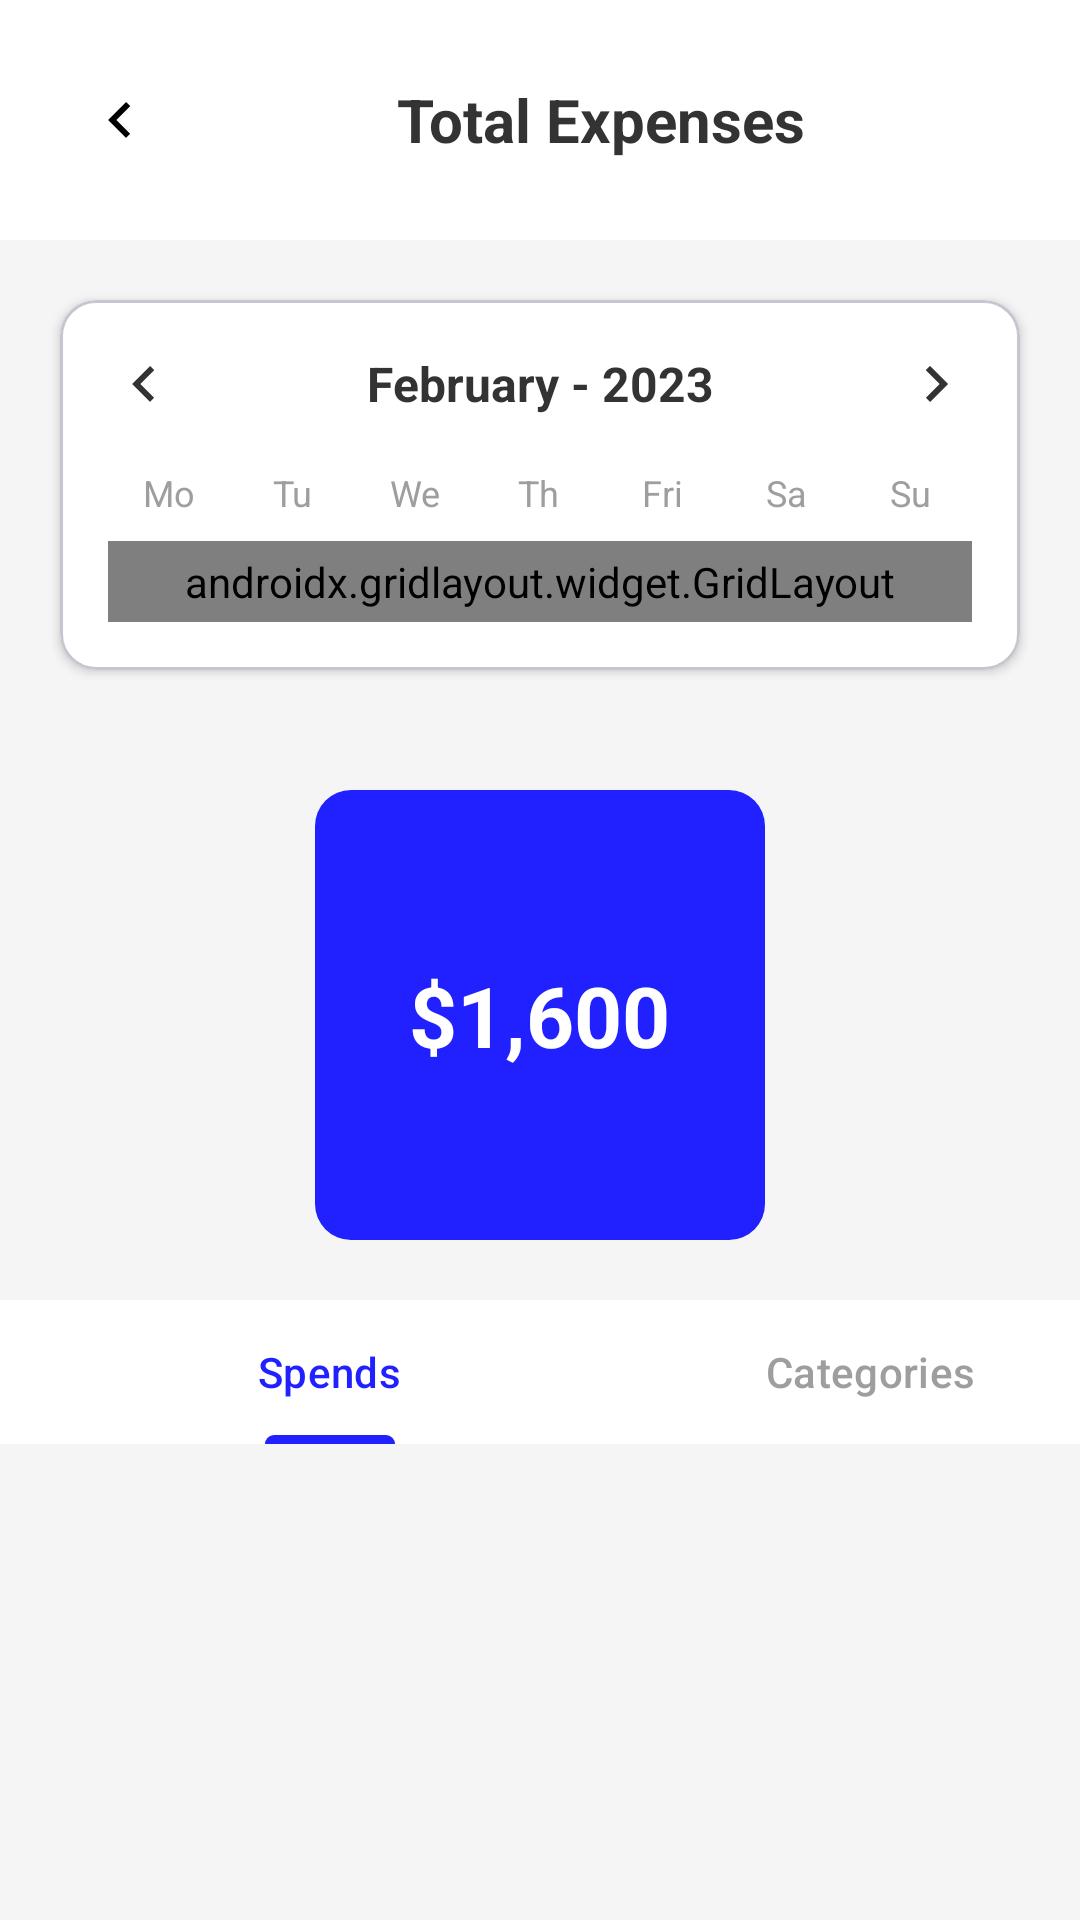

Named icons in this screenshot (1080×1920) and their centers, [x,y]:
arrow left: [119,120], [143,384]
arrow right: [937,384]
